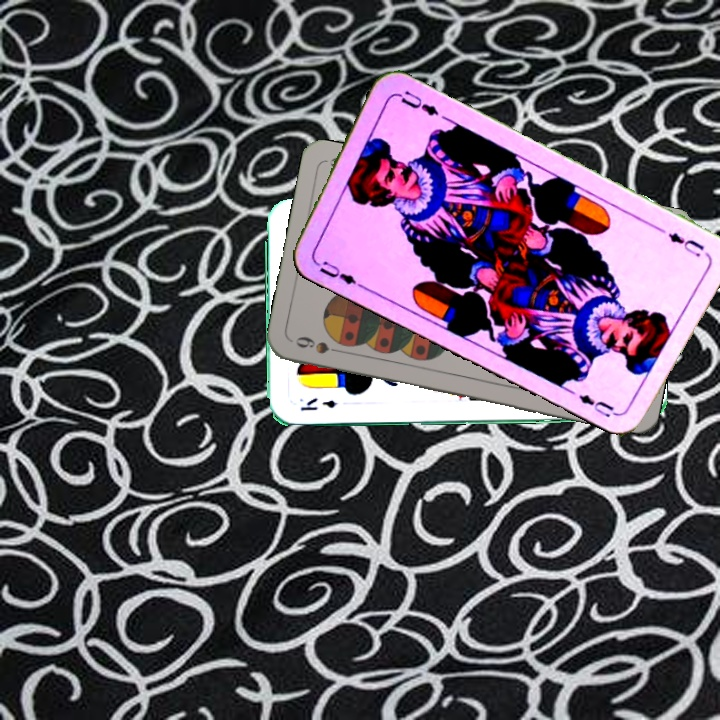EK: (297, 394, 339, 414)
EU: (310, 252, 365, 290), (664, 228, 707, 260)
S9: (292, 332, 349, 357)
